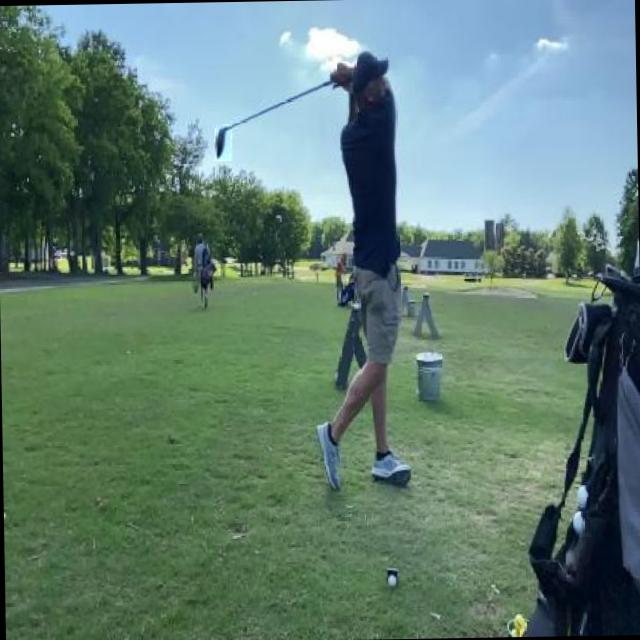club head: (214, 124, 232, 160)
